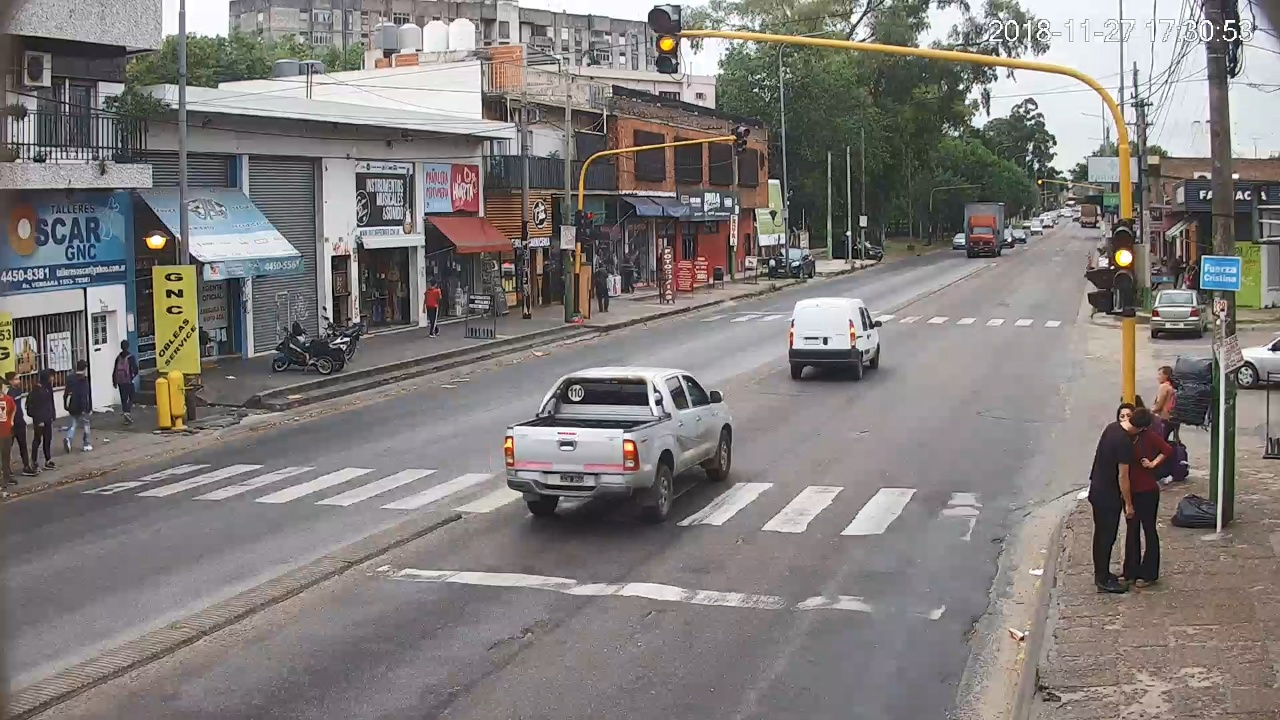car: (504, 366, 733, 522), (789, 297, 882, 379)
traffic light: (1113, 225, 1134, 291), (658, 5, 677, 73)
